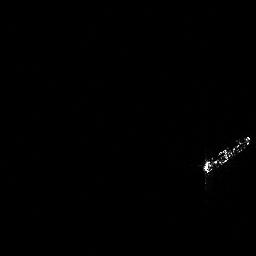ship: (196, 132, 253, 180)
